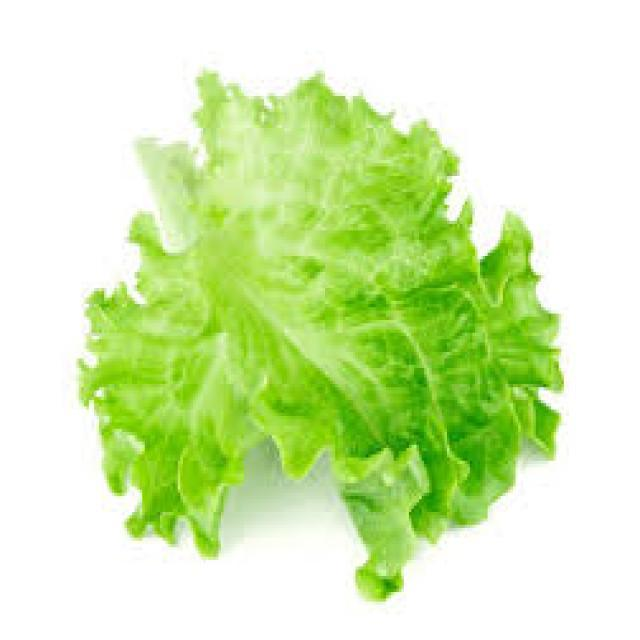Lettuce: (75, 63, 566, 601)
